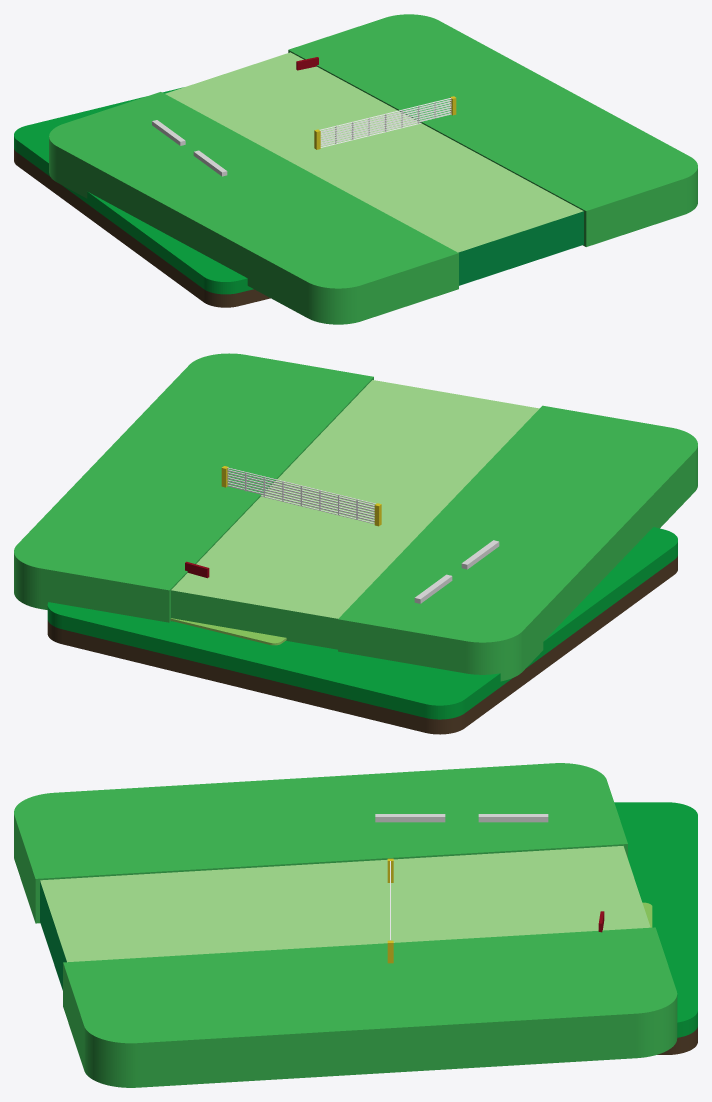
Rendered from island5.glb.
3 views of the same model, one above another, from view 1: azimuth 30°, elevation 25°; view 2: azimuth 150°, elevation 25°; view 3: azimuth 270°, elevation 25° (orthographic). The views are drawn at different scales.
Visible parts, largest first — view 1: Cube, Island5, Plane.004; view 2: Cube, Island5, Plane.004, Plane; view 3: Cube, Island5, Plane.002, Plane.001.
Boxes of the visible parts, x1,y1,x2,y2 form: Cube: [49, 14, 697, 324]; Island5: [14, 87, 270, 307]; Plane.004: [320, 98, 451, 147]; Cube: [14, 353, 697, 681]; Island5: [47, 527, 677, 734]; Plane.004: [227, 467, 375, 523]; Plane: [170, 618, 286, 645]; Cube: [14, 763, 677, 1087]; Island5: [614, 802, 697, 1054]; Plane.002: [375, 814, 445, 822]; Plane.001: [478, 814, 548, 822].
Size of the model in its own units: 7.6 by 1.11 by 7.84.
